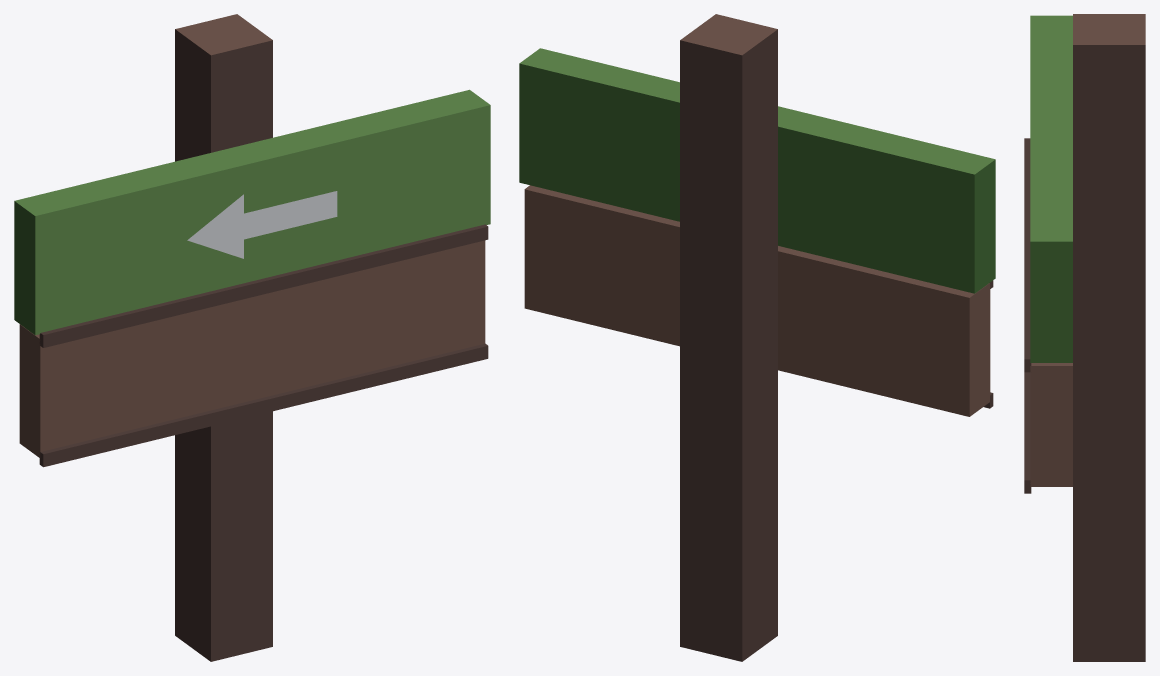
File: sign_green.fbx
The picture shows the model from 3 angles, left to right: view 1: azimuth 30°, elevation 25°; view 2: azimuth 150°, elevation 25°; view 3: azimuth 270°, elevation 25°; orthographic projection.
Visible parts, largest first — view 1: sign_green; view 2: sign_green; view 3: sign_green.
Part boxes in pixels (x1,y1,x2,y2): sign_green: (14, 14, 490, 661); sign_green: (519, 14, 995, 661); sign_green: (1024, 14, 1145, 661).
Bounding box in the file's own units: 0.44 × 0.56 × 0.1.
